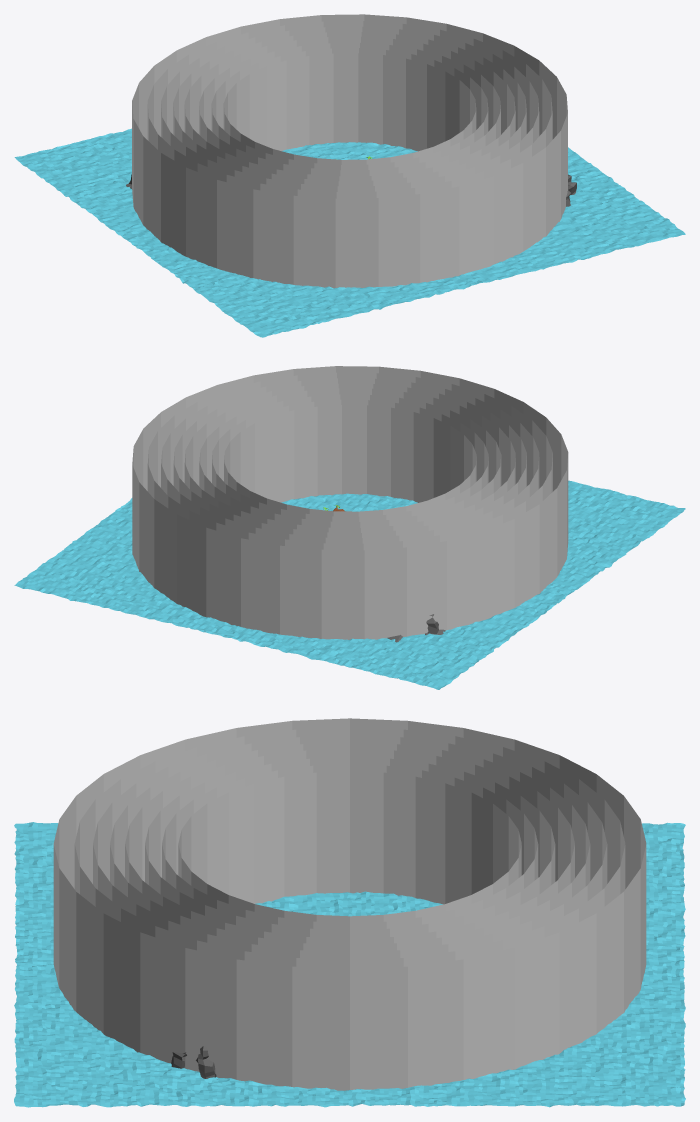
The model's file is LowPoly Island.fbx.
3 views of the same model, one above another, from view 1: azimuth 30°, elevation 25°; view 2: azimuth 150°, elevation 25°; view 3: azimuth 270°, elevation 25° (orthographic). The views are drawn at different scales.
Parts seen in each view (by area): view 1: Cylinder.015, Grid, Cylinder.008, Cylinder.014, Cylinder.013, Cylinder.011, Cylinder.012, Cylinder.010, Cylinder.009; view 2: Cylinder.015, Grid, Cylinder.008, Cylinder.014, Cylinder.013, Cylinder.011, Cylinder.012, Cylinder.010, Cylinder.009; view 3: Cylinder.015, Grid, Cylinder.008, Cylinder.014, Cylinder.013, Cylinder.011, Cylinder.012, Cylinder.010, Cylinder.009, Plane.005.
Part boxes in pixels (box(x1,y1,x2,y2)): Cylinder.015: box(132, 14, 567, 288); Grid: box(14, 128, 685, 337); Cylinder.008: box(223, 53, 476, 164); Cylinder.014: box(147, 21, 552, 198); Cylinder.013: box(161, 26, 539, 191); Cylinder.011: box(184, 36, 515, 181); Cylinder.012: box(173, 32, 526, 186); Cylinder.010: box(199, 42, 500, 176); Cylinder.009: box(211, 48, 488, 170); Cylinder.015: box(132, 366, 568, 639); Grid: box(14, 480, 685, 689); Cylinder.008: box(224, 405, 476, 516); Cylinder.014: box(147, 372, 552, 550); Cylinder.013: box(161, 378, 539, 543); Cylinder.011: box(184, 388, 515, 532); Cylinder.012: box(173, 383, 526, 537); Cylinder.010: box(199, 394, 501, 527); Cylinder.009: box(212, 399, 488, 521); Cylinder.015: box(53, 718, 646, 1090); Grid: box(14, 822, 685, 1107); Cylinder.008: box(178, 771, 521, 923); Cylinder.014: box(74, 727, 625, 968); Cylinder.013: box(93, 735, 607, 959); Cylinder.011: box(125, 748, 574, 945); Cylinder.012: box(110, 742, 590, 952); Cylinder.010: box(145, 757, 555, 938); Cylinder.009: box(162, 764, 538, 930); Plane.005: box(171, 1045, 217, 1079).
Bounding box in the file's own units: 1547 × 349 × 1548.
